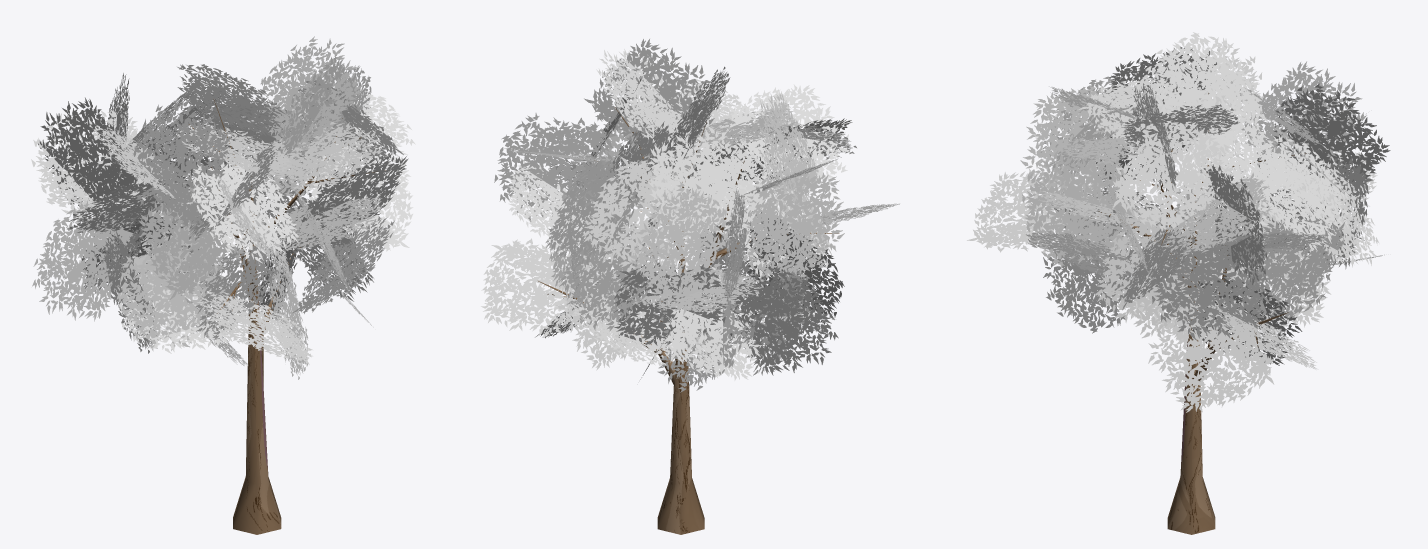
Rendered from P_TREE3.fbx.
3 views of the same model, side by side, from view 1: azimuth 30°, elevation 25°; view 2: azimuth 150°, elevation 25°; view 3: azimuth 270°, elevation 25° (orthographic). The views are drawn at different scales.
Visible parts, largest first — view 1: Plane.003, Trunk04; view 2: Plane.003, Trunk04; view 3: Plane.003, Trunk04.
Boxes of the visible parts, left/top/right/bottom form: Plane.003: left=31, top=36, right=415, bottom=379; Trunk04: left=188, top=98, right=385, bottom=534; Plane.003: left=481, top=39, right=899, bottom=392; Trunk04: left=538, top=107, right=839, bottom=534; Plane.003: left=967, top=32, right=1390, bottom=412; Trunk04: left=1085, top=93, right=1306, bottom=534.
Size of the model in its own units: 298 by 359 by 306.
